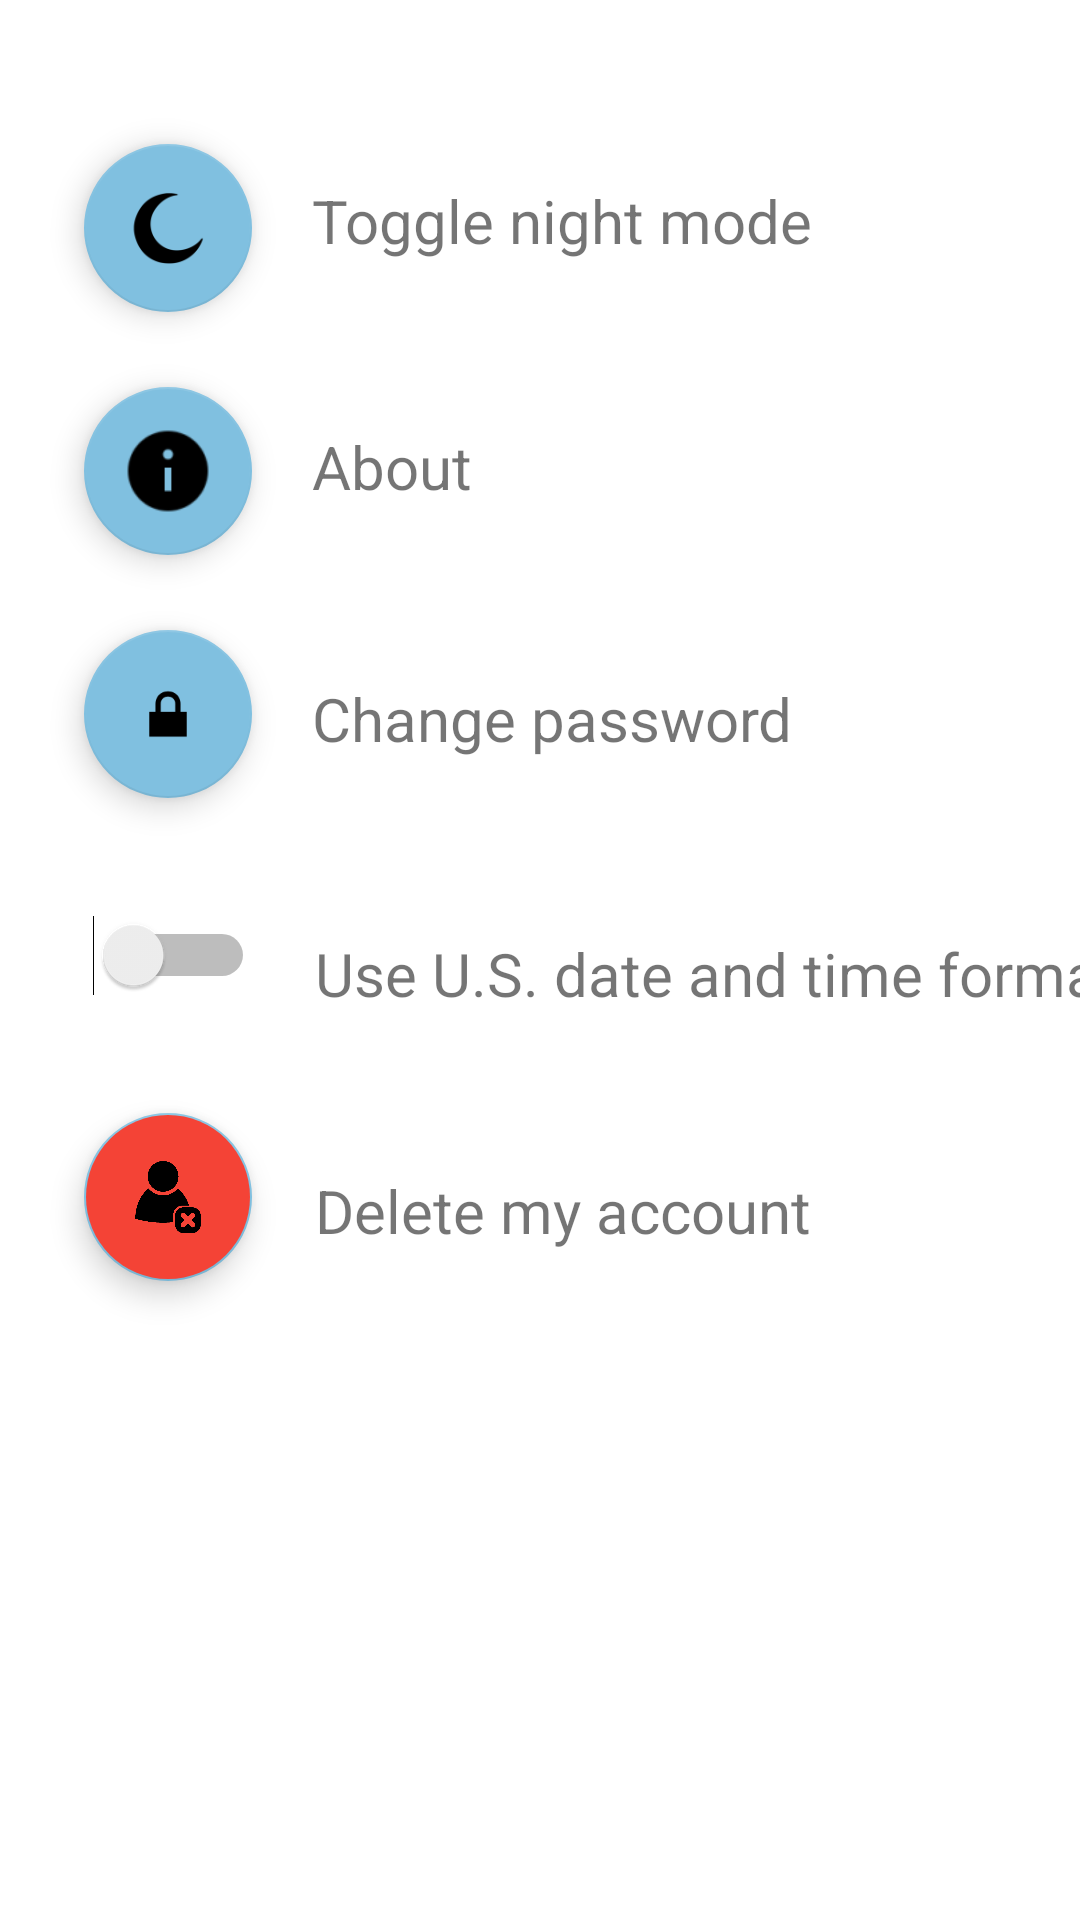

Icon click points for this 1080×1920 phone screenshot, format [x,y]:
delete user: [168,1197]
information: [168,471]
lock: [168,714]
moon: [168,228]
